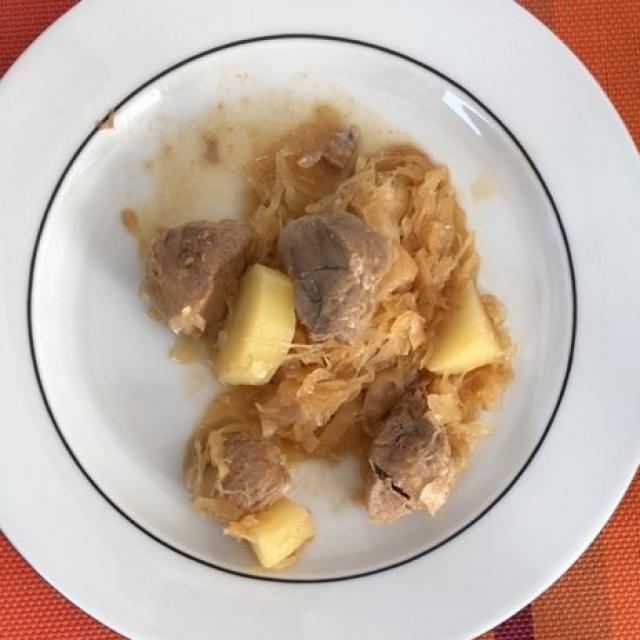pork: (126, 208, 450, 538)
potatoes: (213, 272, 496, 562)
sauerkraut: (202, 126, 466, 490)
